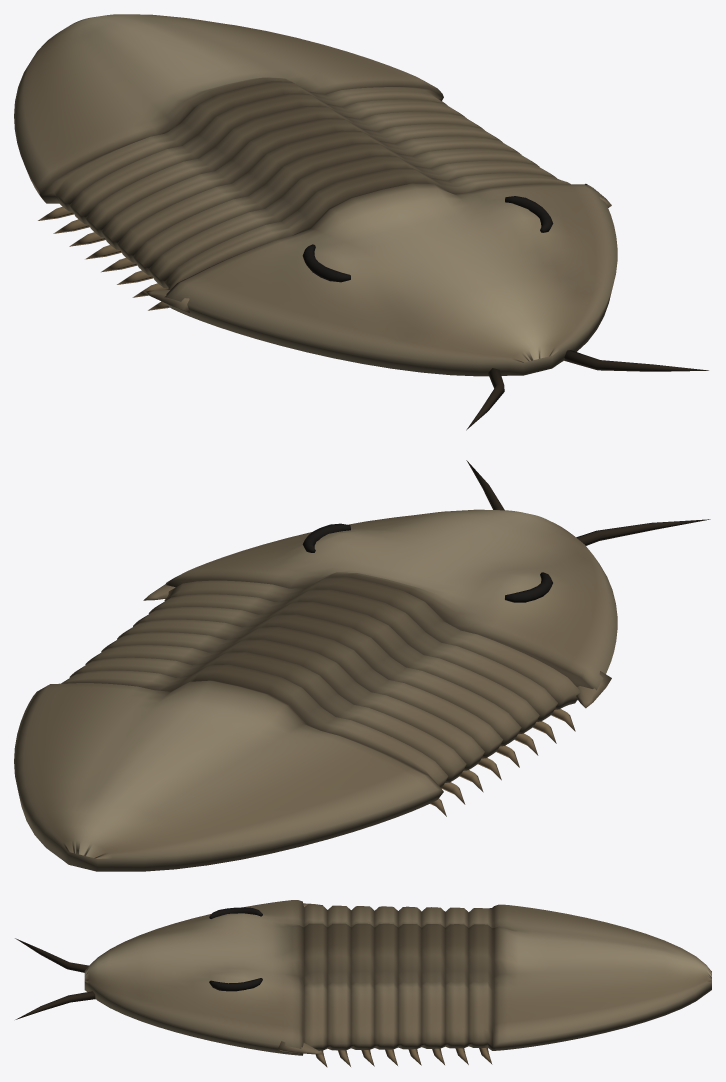
File: IsotelusGigas.fbx
3 renders of one model, top to bottom at view 1: azimuth 30°, elevation 25°; view 2: azimuth 150°, elevation 25°; view 3: azimuth 270°, elevation 25°, orthographic. The views are drawn at different scales.
Parts seen in each view (by area): view 1: IsotelusGigas; view 2: IsotelusGigas; view 3: IsotelusGigas.
Boxes of the visible parts, x1,y1,x2,y2 form: IsotelusGigas: (14,14,708,430); IsotelusGigas: (14,460,710,871); IsotelusGigas: (15,900,711,1067).
Bounding box in the file's own units: 0.9003 × 0.17 × 1.78.
